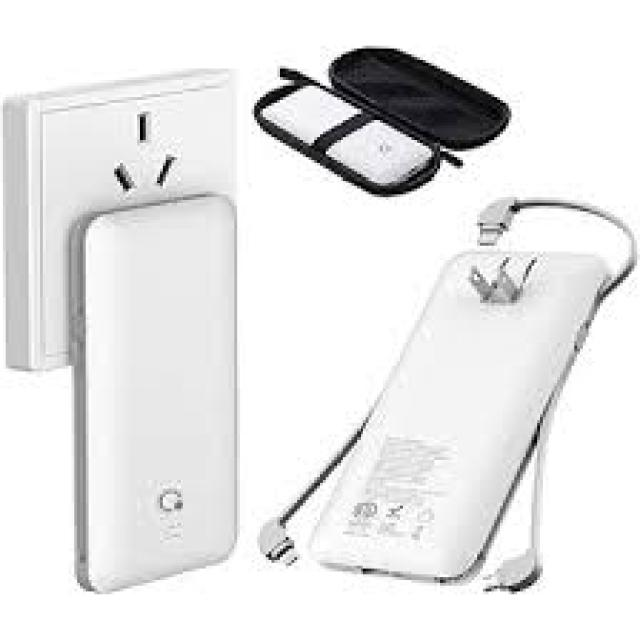portable-charger: (297, 248, 612, 584), (70, 190, 240, 594), (258, 86, 432, 191)
